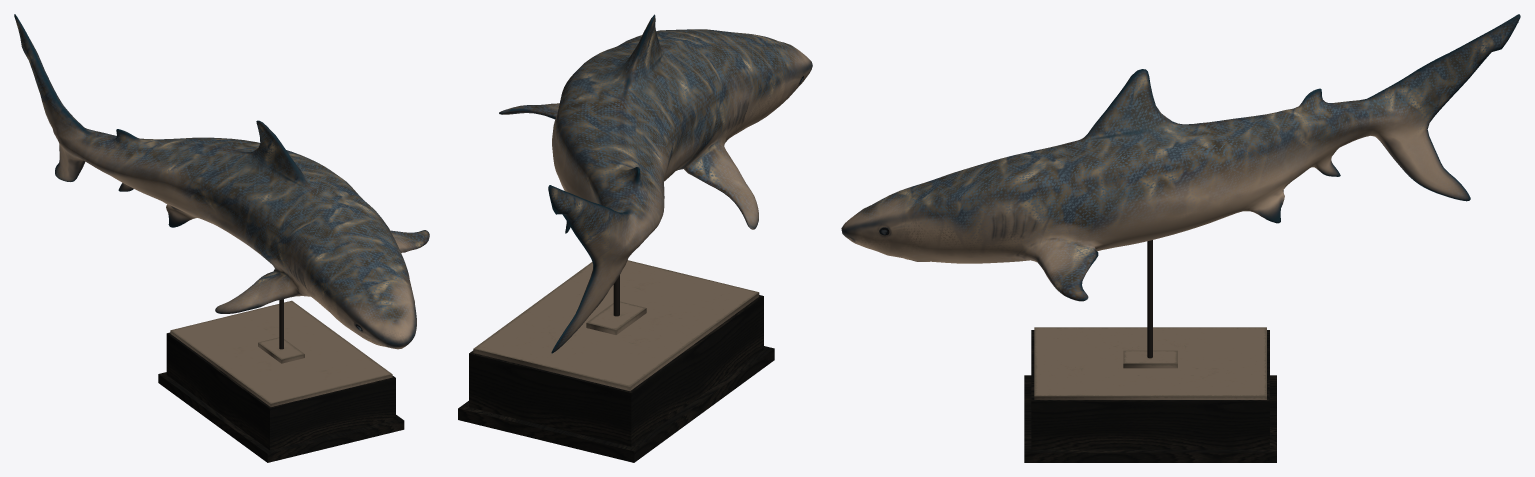
File: bronze_shark_statue_4k.fbx
The picture shows the model from 3 angles, left to right: view 1: azimuth 30°, elevation 25°; view 2: azimuth 150°, elevation 25°; view 3: azimuth 270°, elevation 25°; orthographic projection. The views are drawn at different scales.
Parts seen in each view (by area): view 1: bronze_shark_statue; view 2: bronze_shark_statue; view 3: bronze_shark_statue.
Part boxes in pixels (<box>): bronze_shark_statue: <box>14,14,429,462</box>; bronze_shark_statue: <box>458,14,812,462</box>; bronze_shark_statue: <box>841,14,1520,462</box>.
Bounding box in the file's own units: 35.2 × 43.16 × 75.98.
